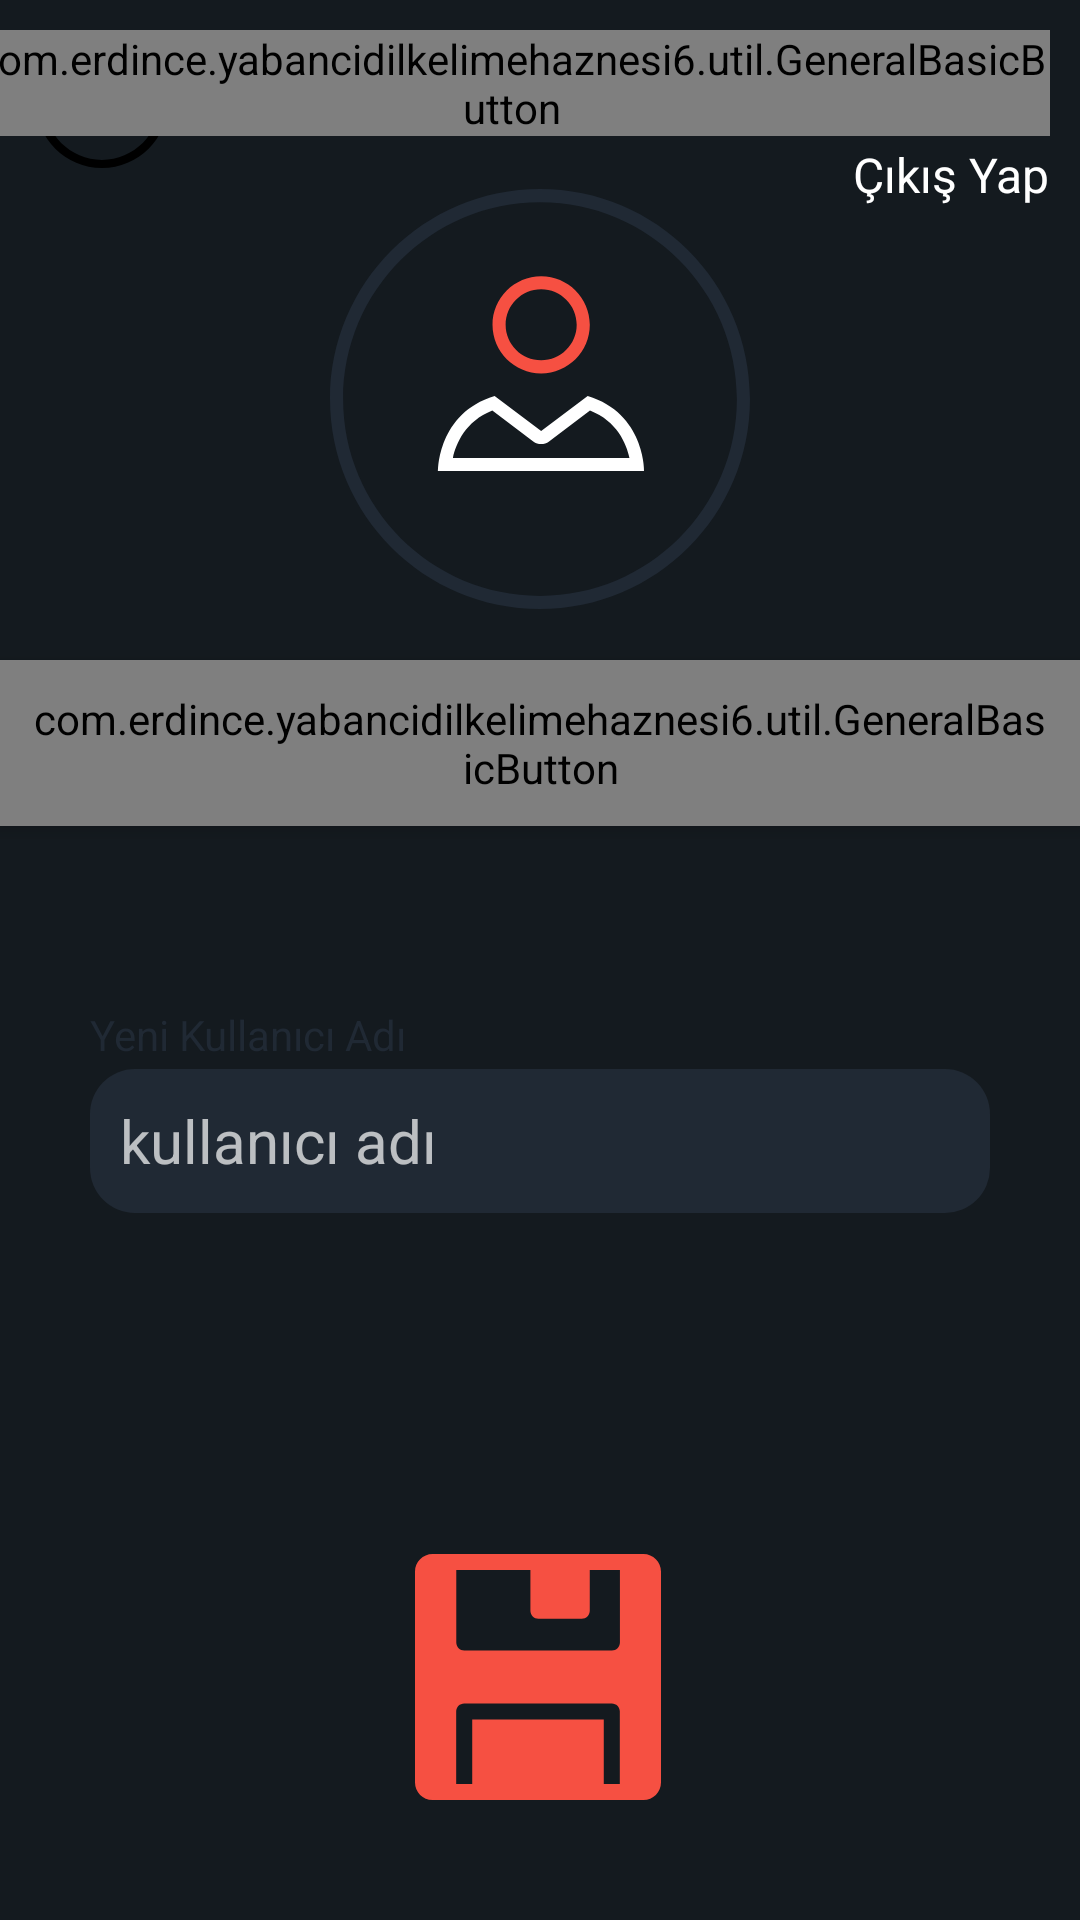

Icons on this 1080 x 1920 Android screen, each with its box as {"x1": x1, "y1": y1, "x2": x2, "y2": y2}:
anaekran profile: {"x1": 437, "y1": 276, "x2": 644, "y2": 471}
save: {"x1": 415, "y1": 1554, "x2": 661, "y2": 1800}
